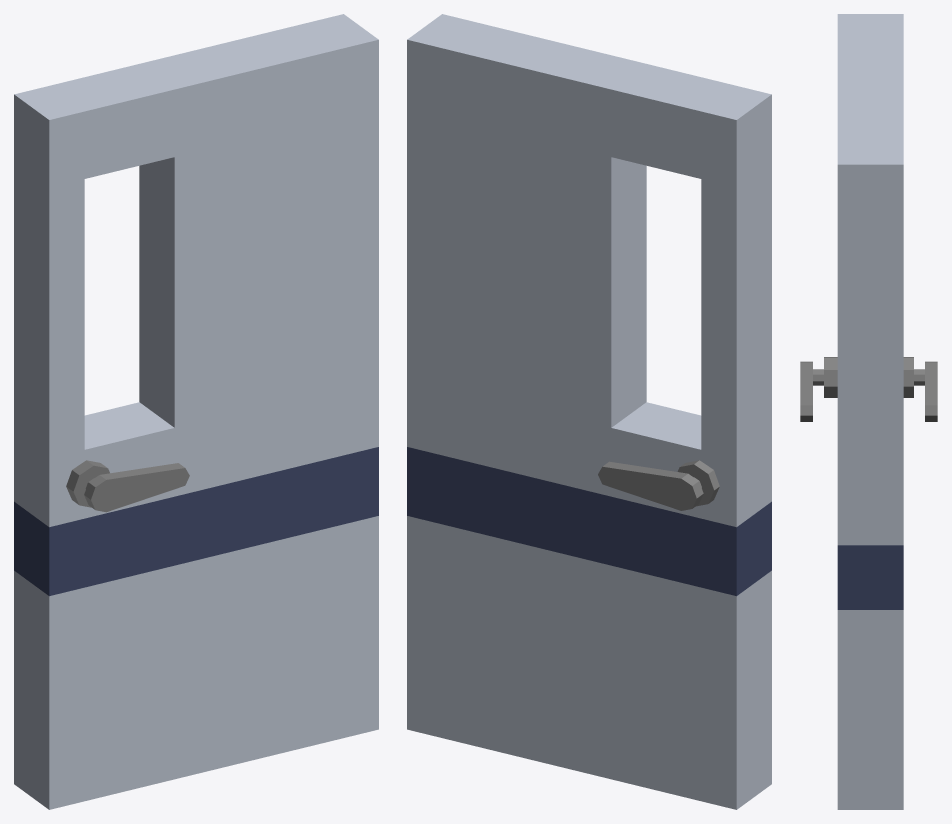
File: HospitalDoor.fbx
The picture shows the model from 3 angles, left to right: view 1: azimuth 30°, elevation 25°; view 2: azimuth 150°, elevation 25°; view 3: azimuth 270°, elevation 25°; orthographic projection. The views are drawn at different scales.
Visible parts, largest first — view 1: Cube; view 2: Cube; view 3: Cube.
Part boxes in pixels (left/top/right/bottom): Cube: left=14, top=14, right=378, bottom=809; Cube: left=407, top=14, right=771, bottom=809; Cube: left=800, top=14, right=937, bottom=809.
Bounding box in the file's own units: 130 × 260 × 50.13.
